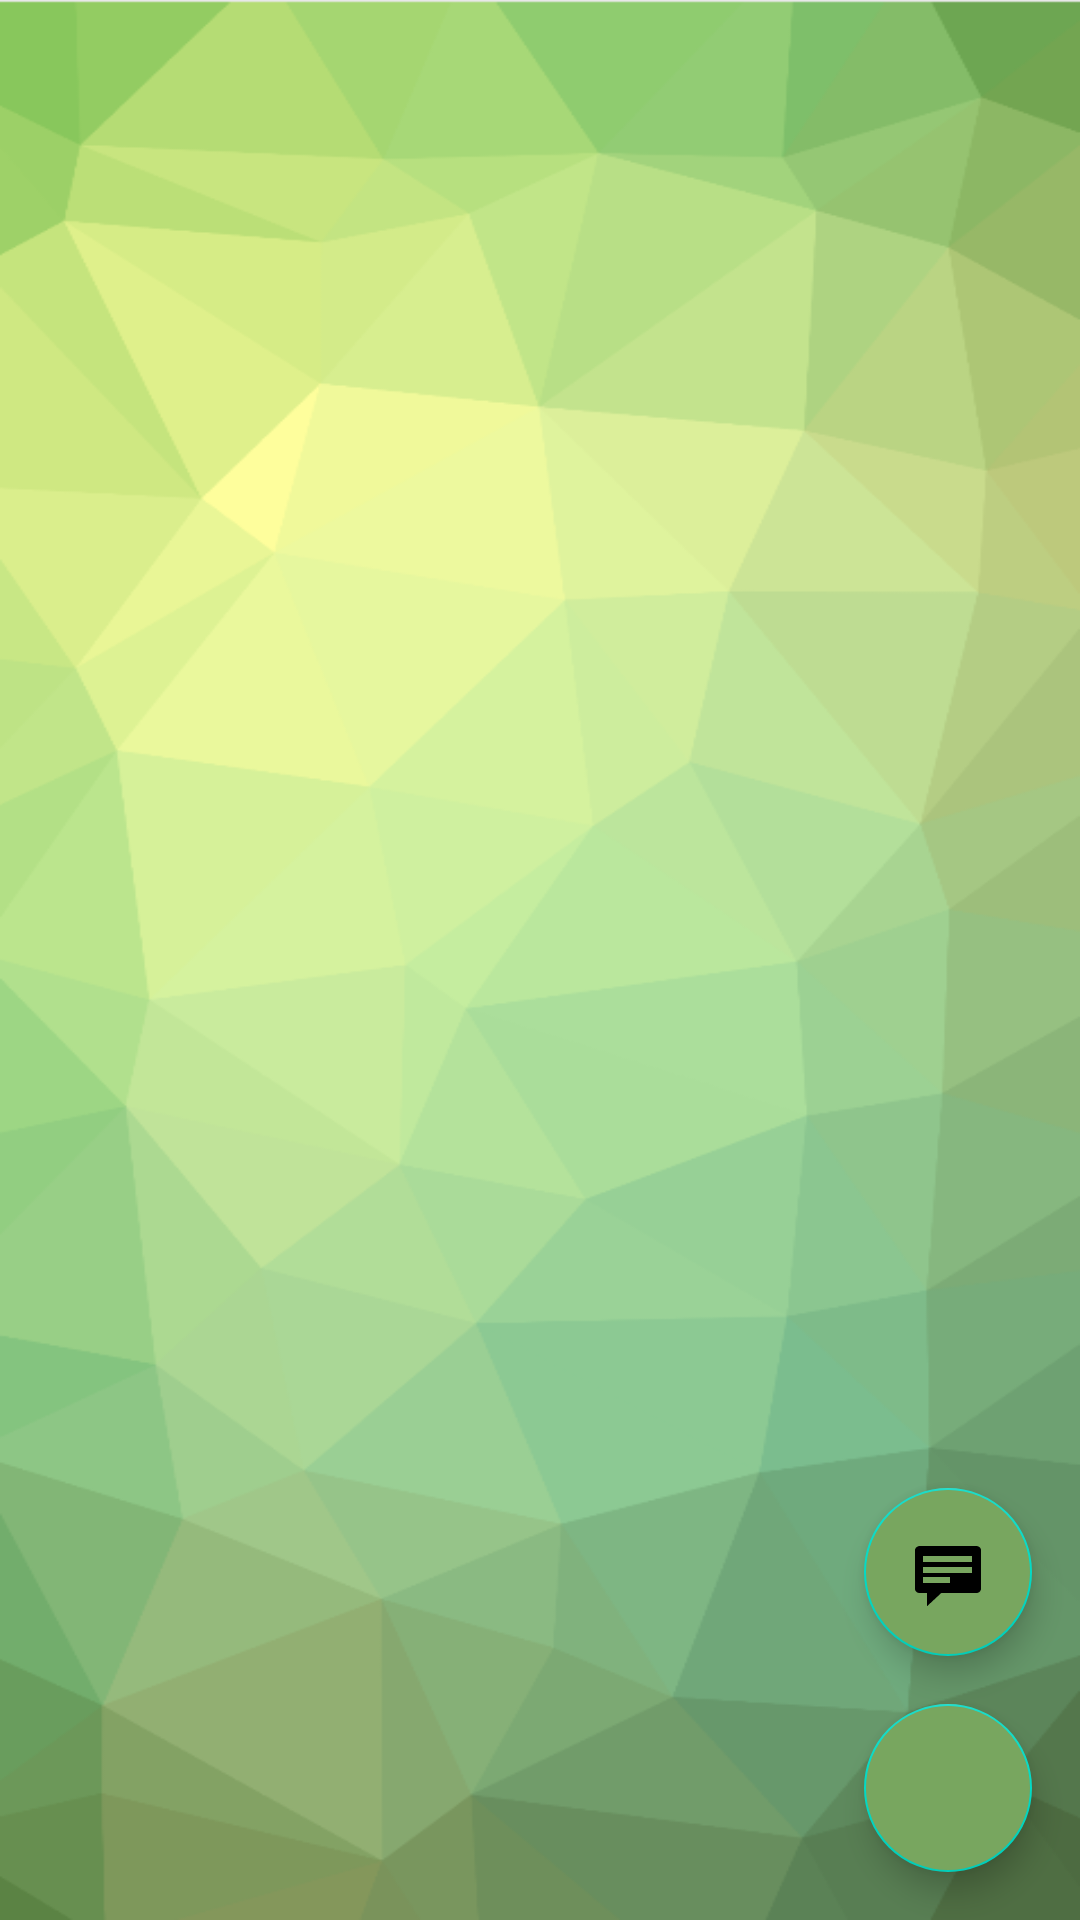

Named icons in this screenshot (1080px×1920px) and their centers, [x,y]:
chat: [948,1572]
